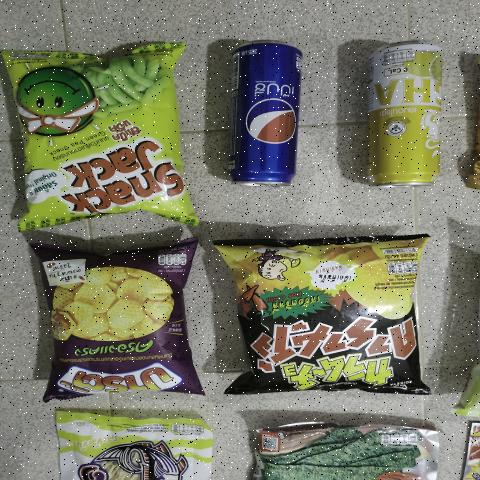karamujo: (249, 241, 423, 392)
party_purple: (47, 251, 192, 395)
pepsi_blue: (217, 47, 303, 190)
singha_yellow: (354, 37, 449, 194)
snack_jack: (23, 51, 182, 211)
